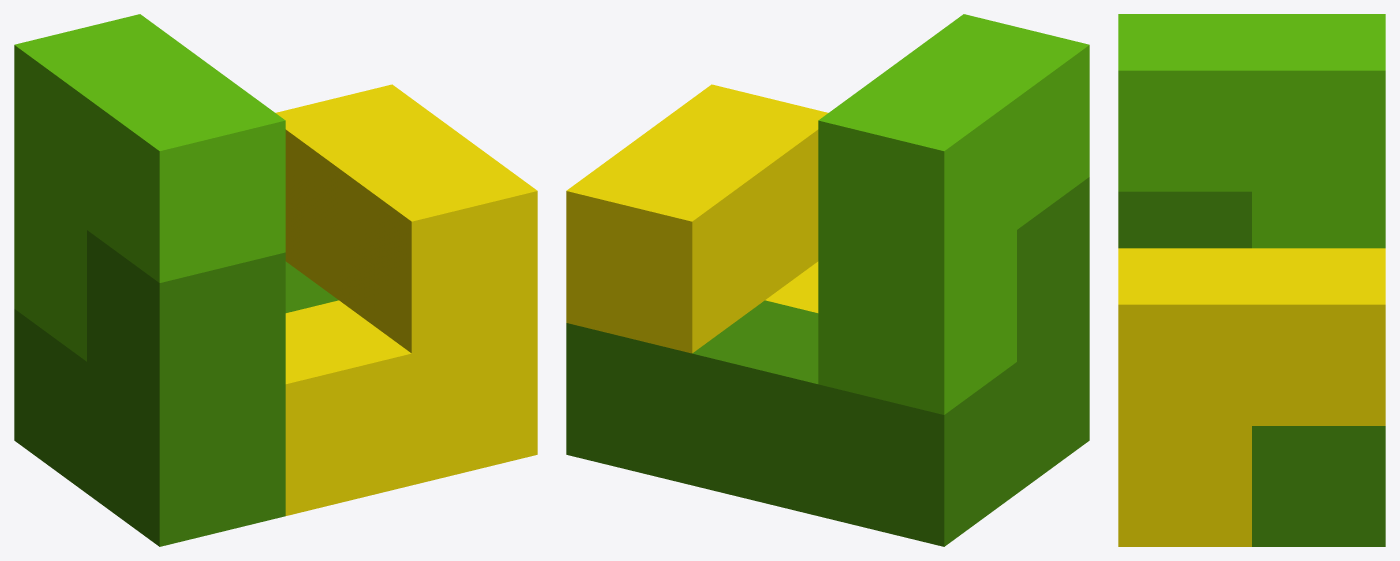
The picture shows the model from 3 angles, left to right: view 1: azimuth 30°, elevation 25°; view 2: azimuth 150°, elevation 25°; view 3: azimuth 270°, elevation 25°; orthographic projection. The views are drawn at different scales.
Parts seen in each view (by area): view 1: mergedBlocks(Clone); view 2: mergedBlocks(Clone); view 3: mergedBlocks(Clone).
Boxes of the visible parts, left/top/right/bottom form: mergedBlocks(Clone): left=14, top=14, right=537, bottom=546; mergedBlocks(Clone): left=566, top=14, right=1089, bottom=546; mergedBlocks(Clone): left=1118, top=14, right=1385, bottom=546.
Size of the model in its own units: 3 by 3 by 2.
Materials: 3 (3 with a texture image).
